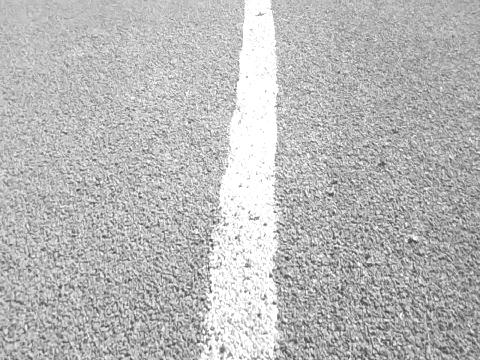Lines: (198, 0, 280, 360)
